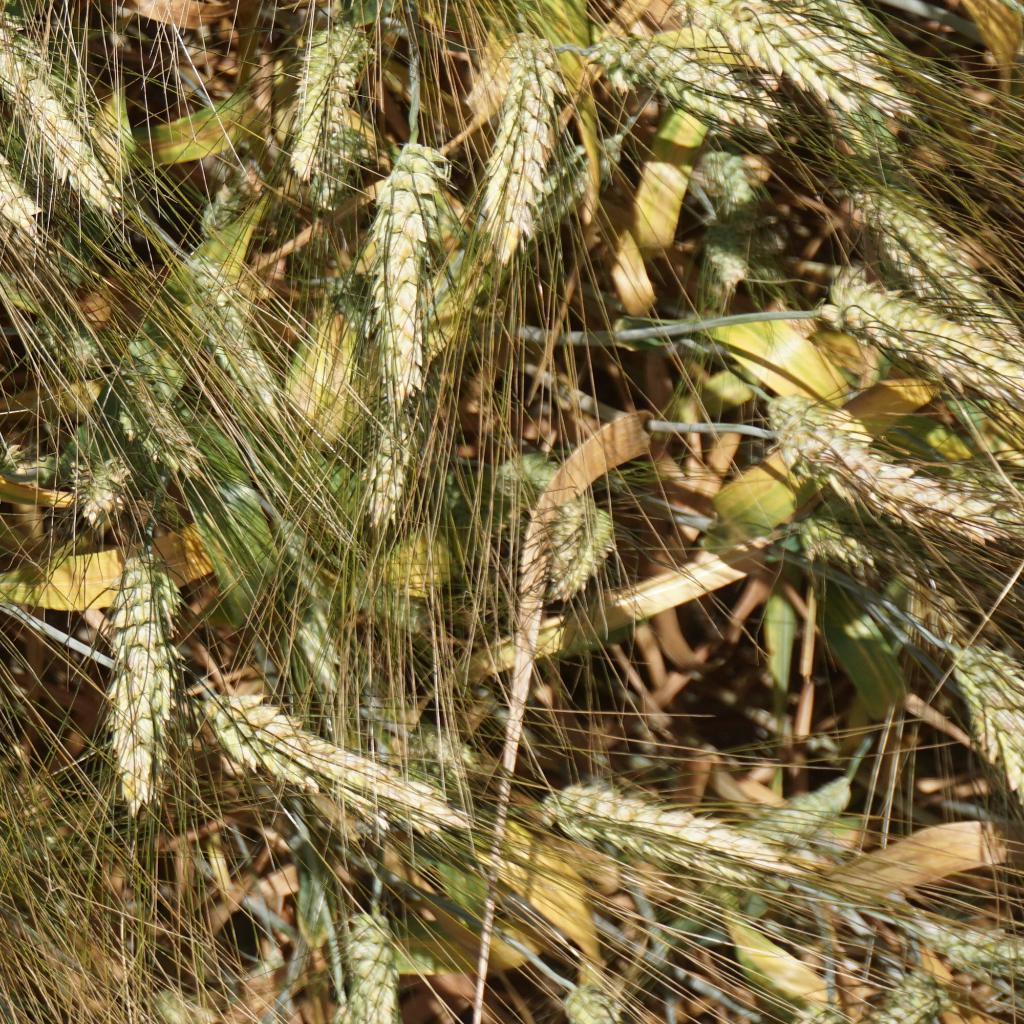0-0: (351, 139, 436, 534), (209, 687, 411, 822), (96, 541, 187, 825), (0, 8, 123, 215), (782, 426, 992, 537), (476, 22, 559, 275), (835, 281, 1005, 403), (547, 782, 771, 871), (179, 252, 285, 433), (275, 13, 376, 188), (588, 25, 764, 121), (682, 0, 834, 87), (846, 174, 958, 283), (271, 519, 340, 674), (116, 358, 202, 472), (739, 775, 864, 843), (540, 496, 616, 599), (534, 120, 620, 210), (954, 638, 1024, 748), (347, 896, 395, 1024), (948, 455, 1024, 534), (918, 922, 1014, 979), (351, 573, 428, 641), (773, 0, 876, 46), (30, 313, 107, 373), (802, 507, 873, 572), (482, 447, 569, 499), (318, 120, 360, 210), (205, 161, 262, 227), (880, 970, 944, 1024), (693, 235, 753, 292), (67, 450, 123, 509), (697, 143, 753, 201), (0, 73, 22, 211), (319, 269, 371, 324), (565, 979, 620, 1024), (410, 731, 469, 771), (763, 390, 826, 424)
